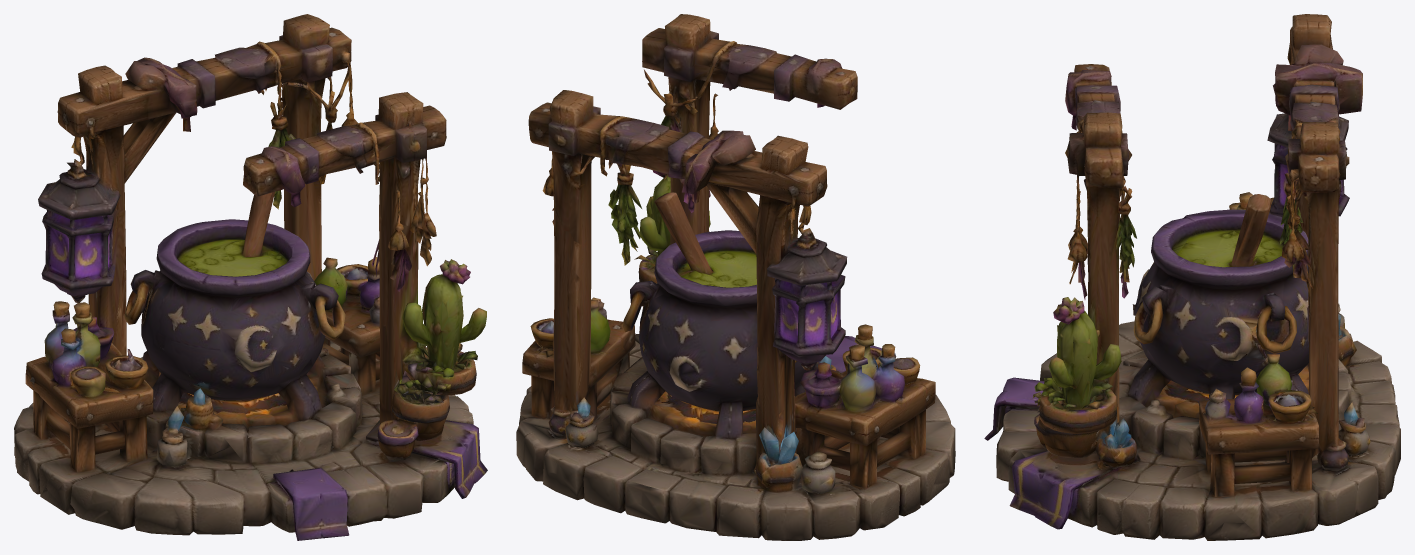
File: caldero_encantado.glb
3 views of the same model, side by side, from view 1: azimuth 30°, elevation 25°; view 2: azimuth 150°, elevation 25°; view 3: azimuth 270°, elevation 25° (orthographic). The views are drawn at different scales.
Parts seen in each view (by area): view 1: caldero_encantado; view 2: caldero_encantado; view 3: caldero_encantado.
Part boxes in pixels (x1,y1,x2,y2): caldero_encantado: (14,14,487,540); caldero_encantado: (516,14,955,540); caldero_encantado: (984,14,1400,540).
Size of what is drawn, in the model's own units: 0.7672 by 0.699 by 0.6924.
Materials: 1 (1 with a texture image).
